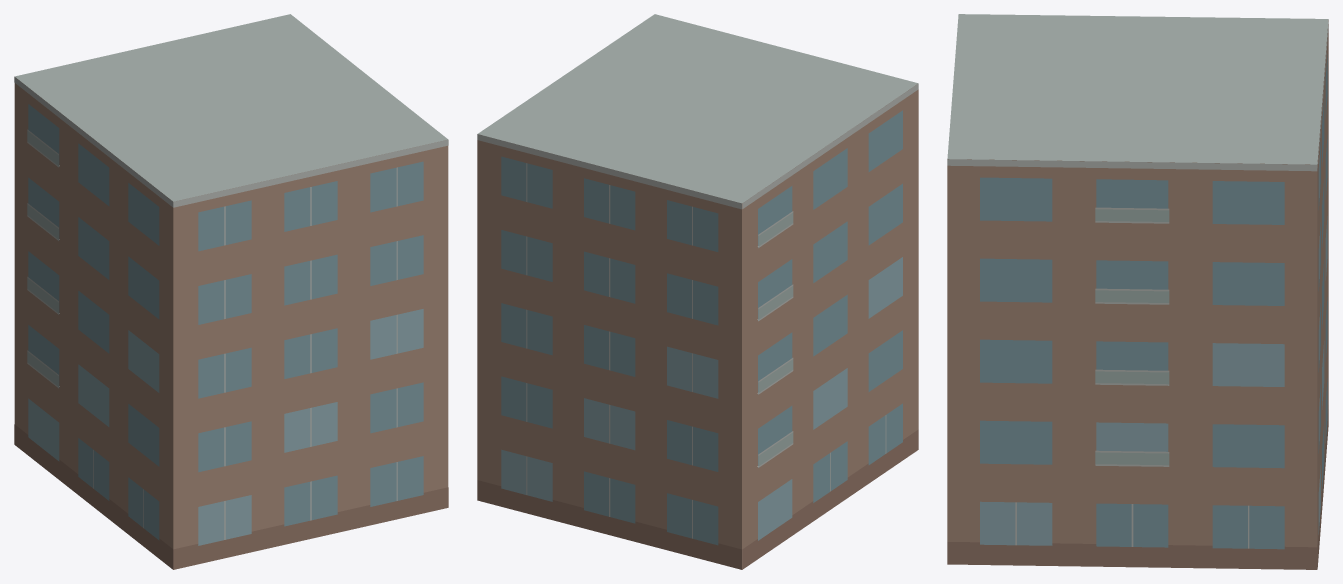
File: survey-upis-32653952.glb
3 views of the same model, side by side, from view 1: azimuth 30°, elevation 25°; view 2: azimuth 150°, elevation 25°; view 3: azimuth 270°, elevation 25° (orthographic). The views are drawn at different scales.
Visible parts, largest first — view 1: survey-upis-32653952.tmp; view 2: survey-upis-32653952.tmp; view 3: survey-upis-32653952.tmp.
Part boxes in pixels (x1,y1,x2,y2): survey-upis-32653952.tmp: (14, 14, 448, 569); survey-upis-32653952.tmp: (477, 14, 918, 569); survey-upis-32653952.tmp: (947, 14, 1328, 569).
Bounding box in the file's own units: 11.8 × 14.8 × 12.62.
